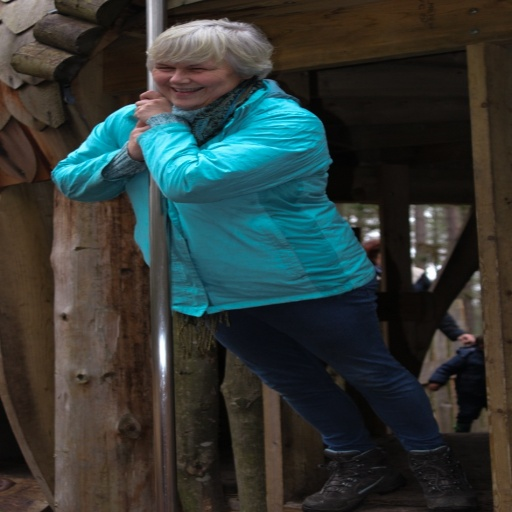hand: (133, 89, 171, 123), (126, 120, 149, 160)
